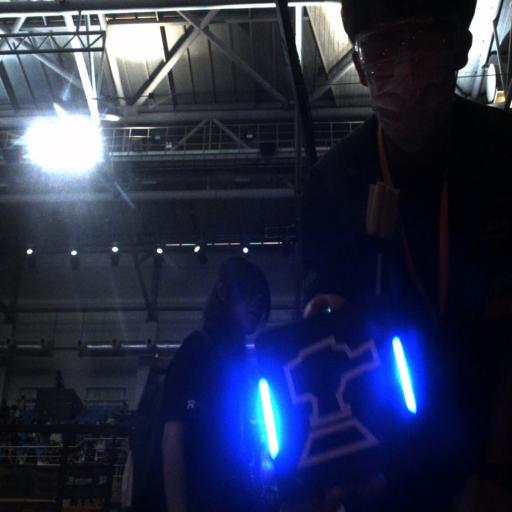target: (254, 303, 420, 482)
